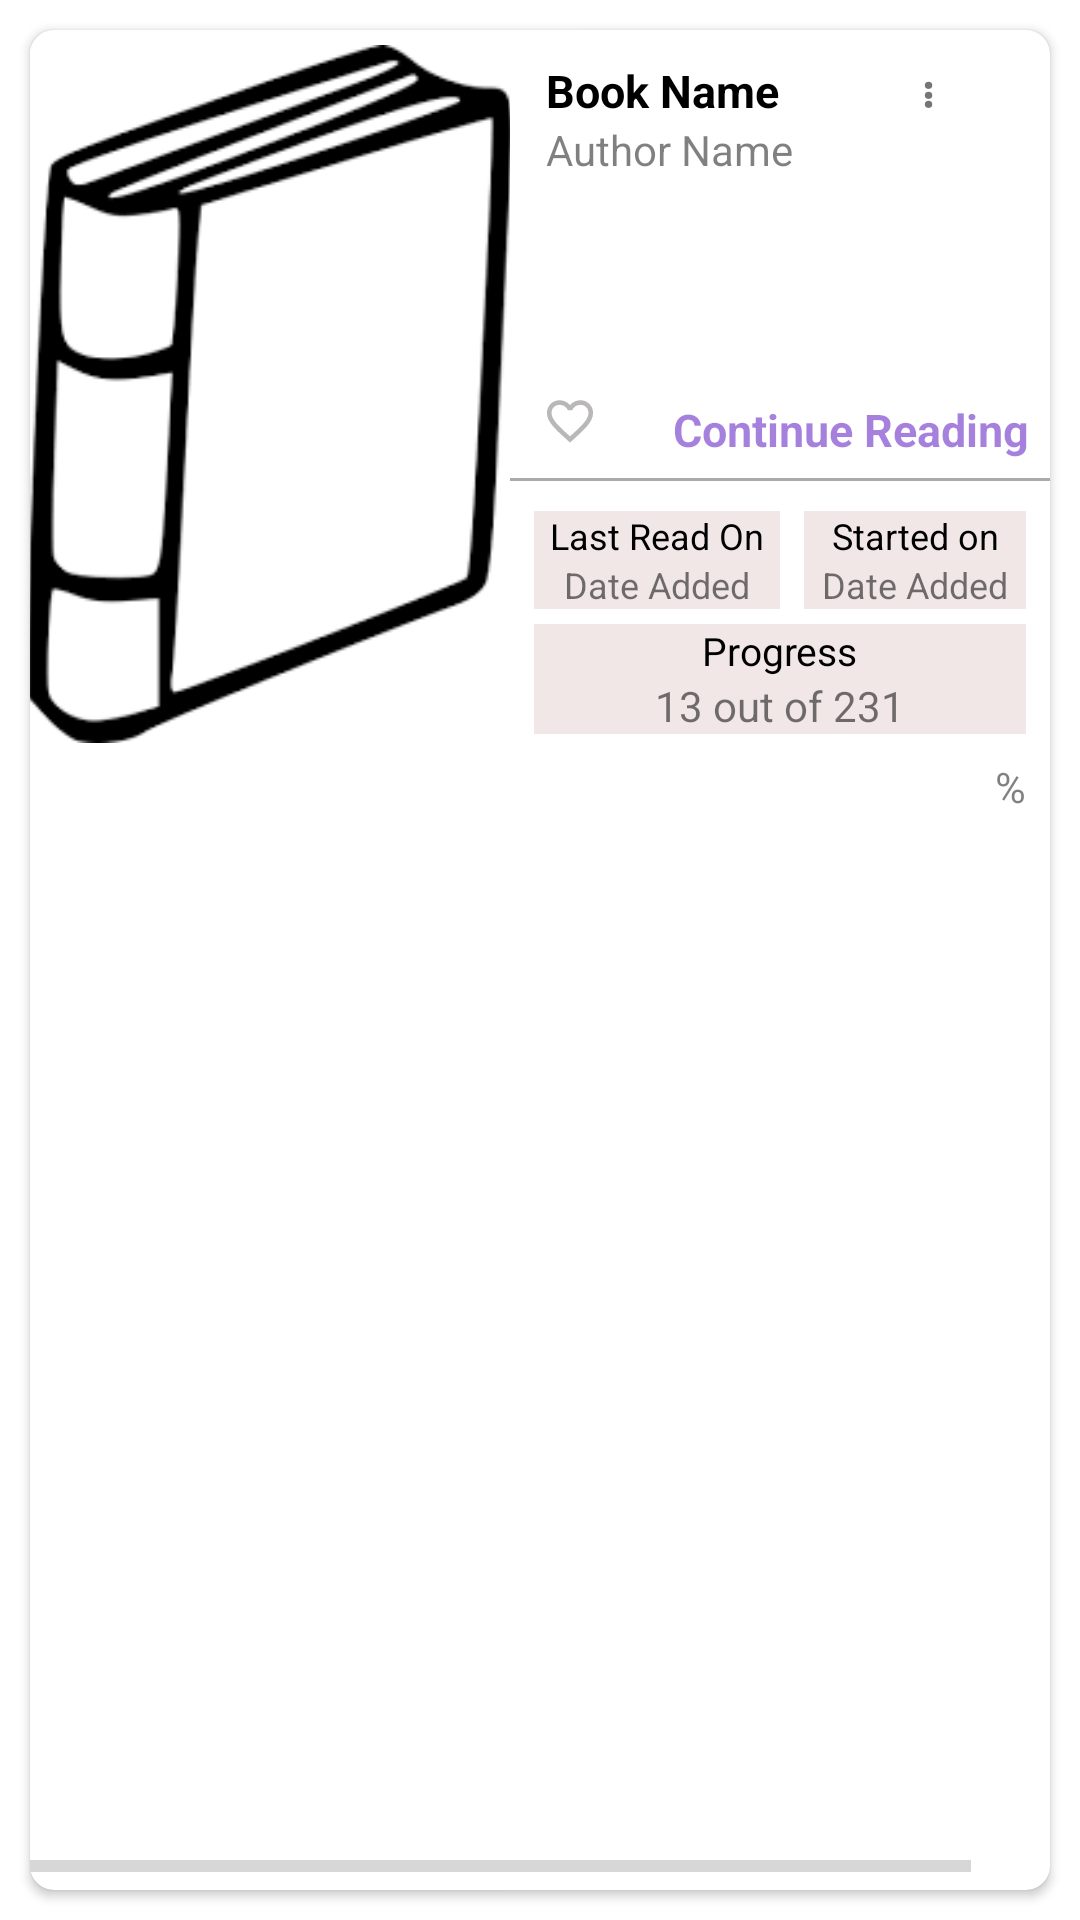

Named icons in this screenshot (1080w x 1920h) and their centers, point (x, y):
noliked: point (570, 421)
